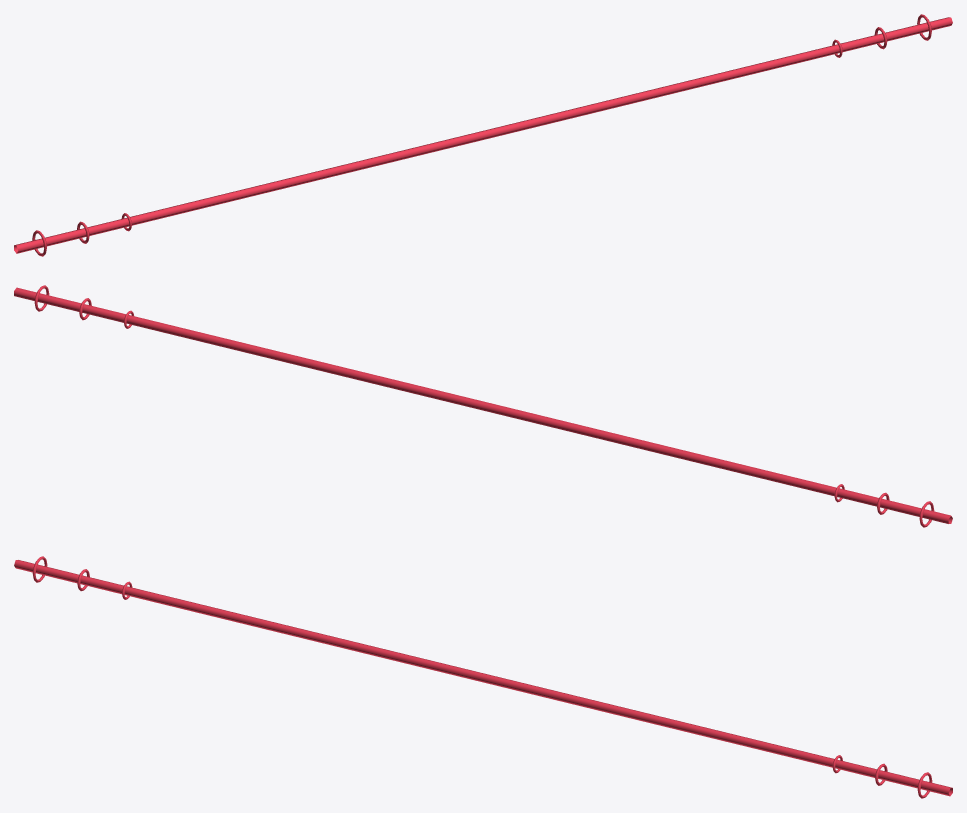
The model's file is obstacle_6_002.fbx.
The picture shows the model from 3 angles, top to bottom: view 1: azimuth 30°, elevation 25°; view 2: azimuth 150°, elevation 25°; view 3: azimuth 330°, elevation 25°; orthographic projection.
Parts seen in each view (by area): view 1: obstacle_6_002; view 2: obstacle_6_002; view 3: obstacle_6_002.
Boxes of the visible parts, <box> form: obstacle_6_002: <box>14,14,952,256</box>; obstacle_6_002: <box>14,285,952,527</box>; obstacle_6_002: <box>14,556,952,798</box>.
Bounding box in the file's own units: 1258 × 32.13 × 32.13.
